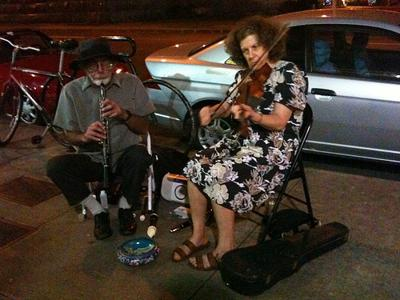person: (171, 17, 310, 272)
